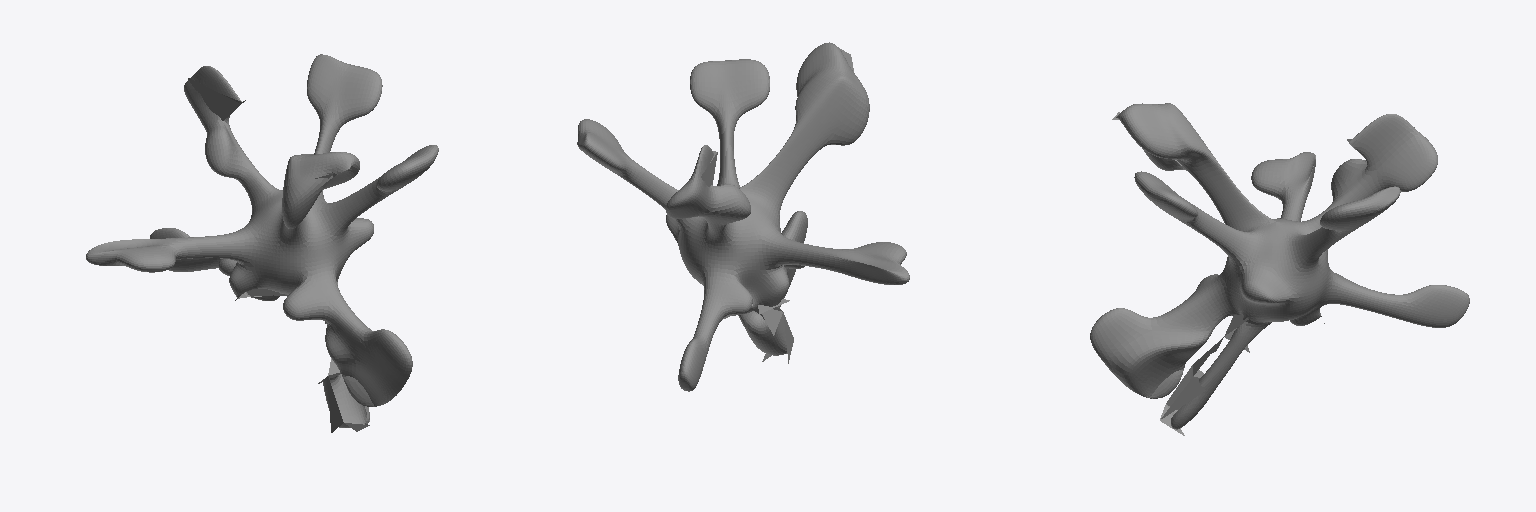
The model's file is commande_gauche.obj.
3 views of the same model, side by side, from view 1: azimuth 30°, elevation 25°; view 2: azimuth 150°, elevation 25°; view 3: azimuth 270°, elevation 25° (orthographic).
Parts seen in each view (by area): view 1: Sphere001, manip_01_gauche; view 2: Sphere001, manip_01_gauche; view 3: Sphere001, manip_01_gauche.
Boxes of the visible parts, <box> form: Sphere001: <box>86,66,438,432</box>; manip_01_gauche: <box>307,54,382,199</box>; Sphere001: <box>666,42,909,391</box>; manip_01_gauche: <box>577,119,701,234</box>; Sphere001: <box>1090,103,1469,435</box>; manip_01_gauche: <box>1283,186,1400,275</box>.
Size of the model in its own units: 1380 by 1316 by 1463.